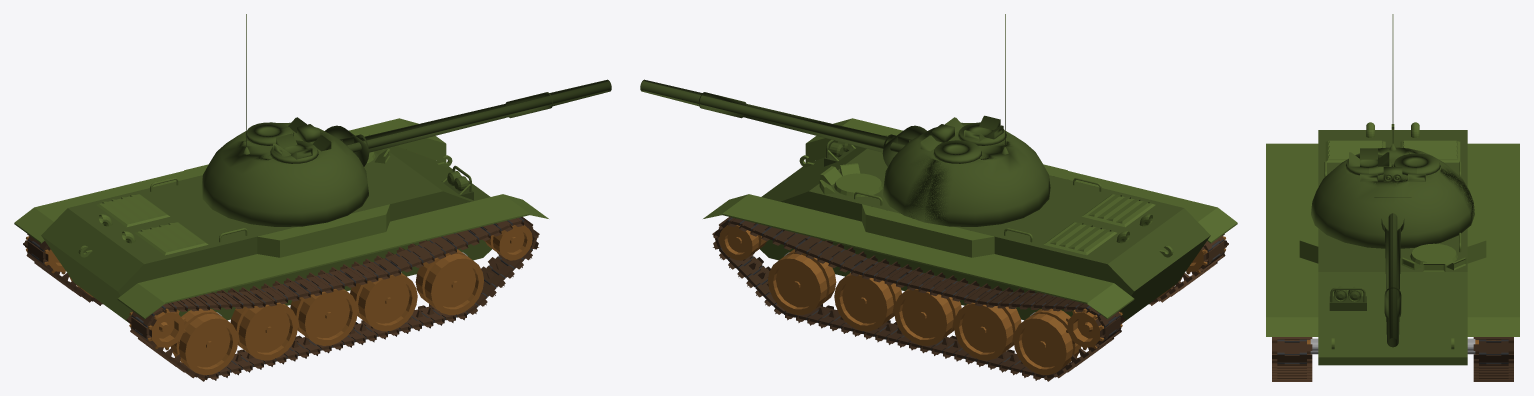
3 views of the same model, side by side, from view 1: azimuth 30°, elevation 25°; view 2: azimuth 150°, elevation 25°; view 3: azimuth 270°, elevation 25° (orthographic). The views are drawn at different scales.
Visible parts, largest first — view 1: alvaz3e2-, futomu4-, torony4_loveg_nelkul, loveg2; view 2: alvaz3e2-, futomu4-, torony4_loveg_nelkul, loveg2; view 3: alvaz3e2-, torony4_loveg_nelkul, futomu4-, loveg2.
Boxes of the visible parts, <box> form: alvaz3e2-: <box>14,118,548,322</box>; futomu4-: <box>23,217,539,381</box>; torony4_loveg_nelkul: <box>201,14,368,226</box>; loveg2: <box>325,79,611,166</box>; alvaz3e2-: <box>703,118,1237,322</box>; futomu4-: <box>712,217,1228,381</box>; torony4_loveg_nelkul: <box>883,14,1050,226</box>; loveg2: <box>640,79,926,166</box>; alvaz3e2-: <box>1266,122,1519,365</box>; torony4_loveg_nelkul: <box>1311,14,1474,248</box>; futomu4-: <box>1272,337,1513,381</box>; loveg2: <box>1374,197,1411,347</box>.
Size of the model in its own units: 7.97 by 4.3 by 3.4.
